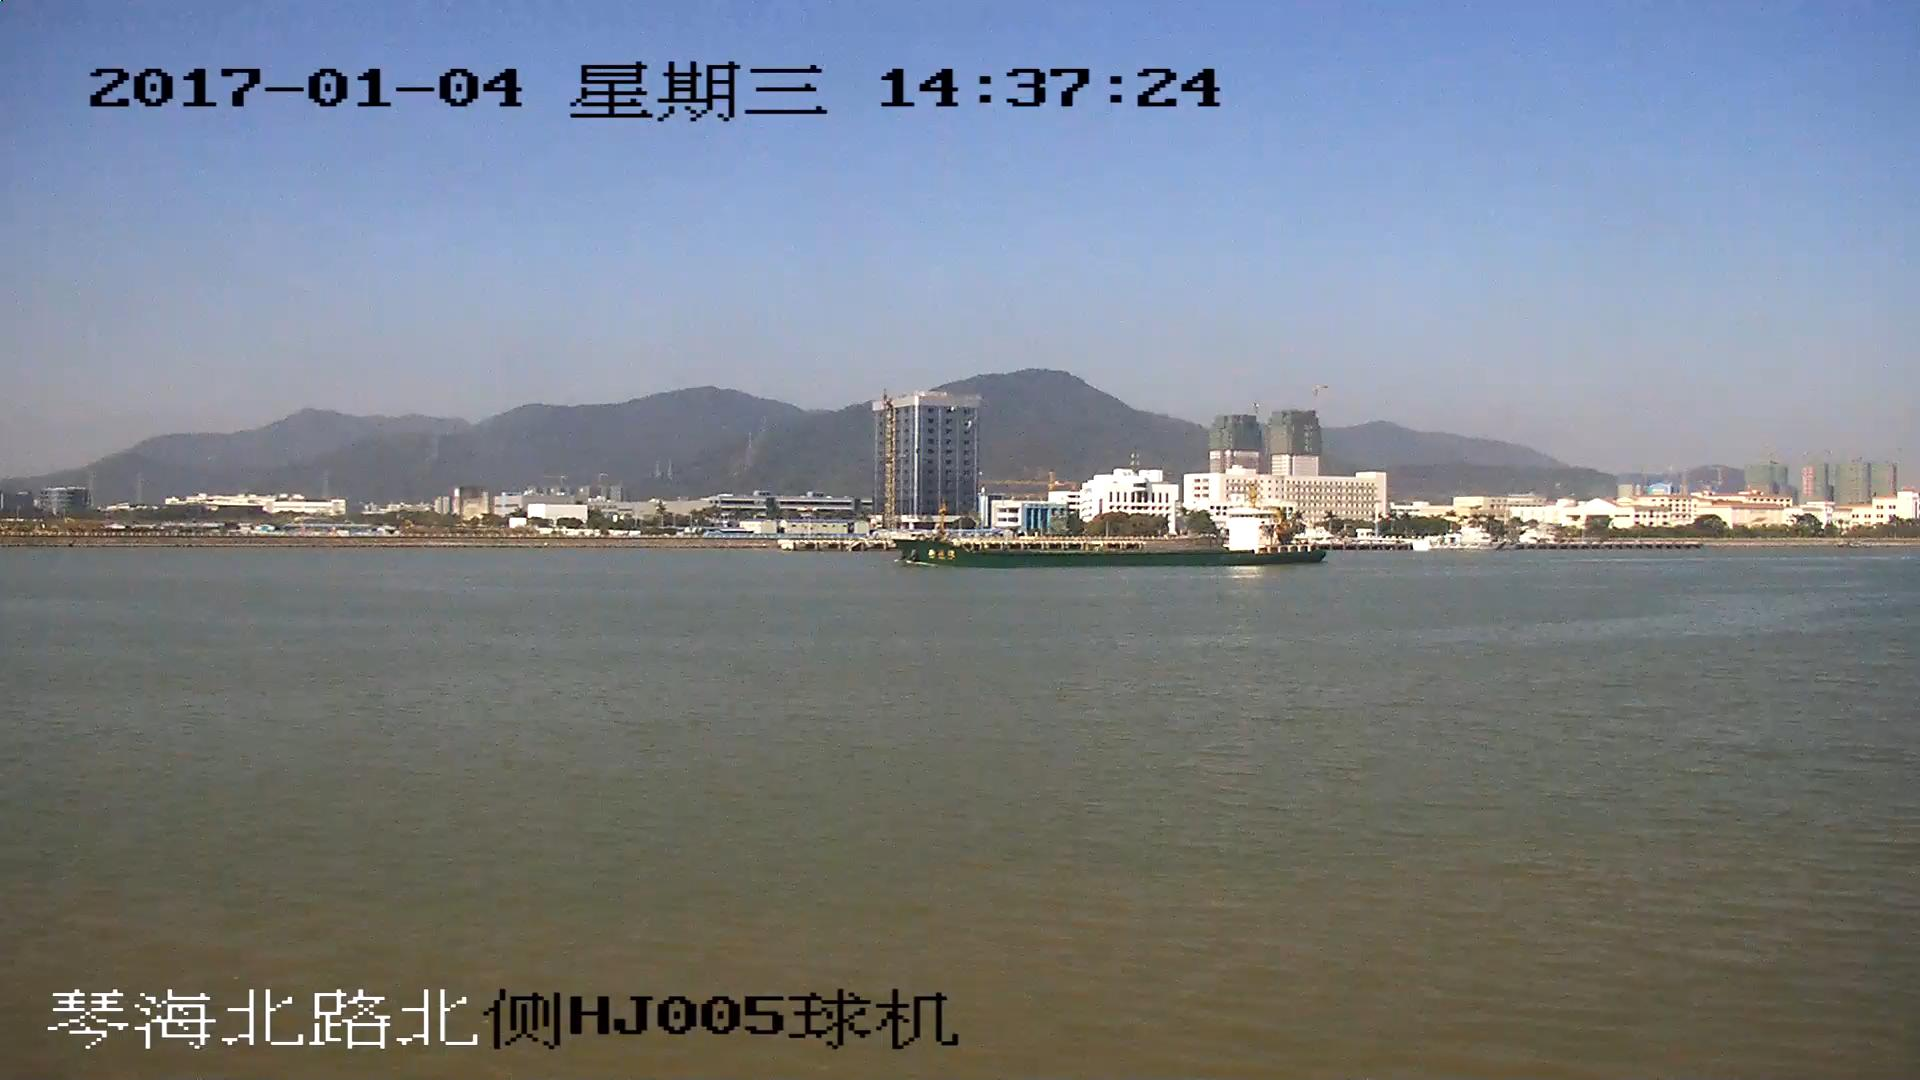general cargo ship: (894, 501, 1328, 569)
